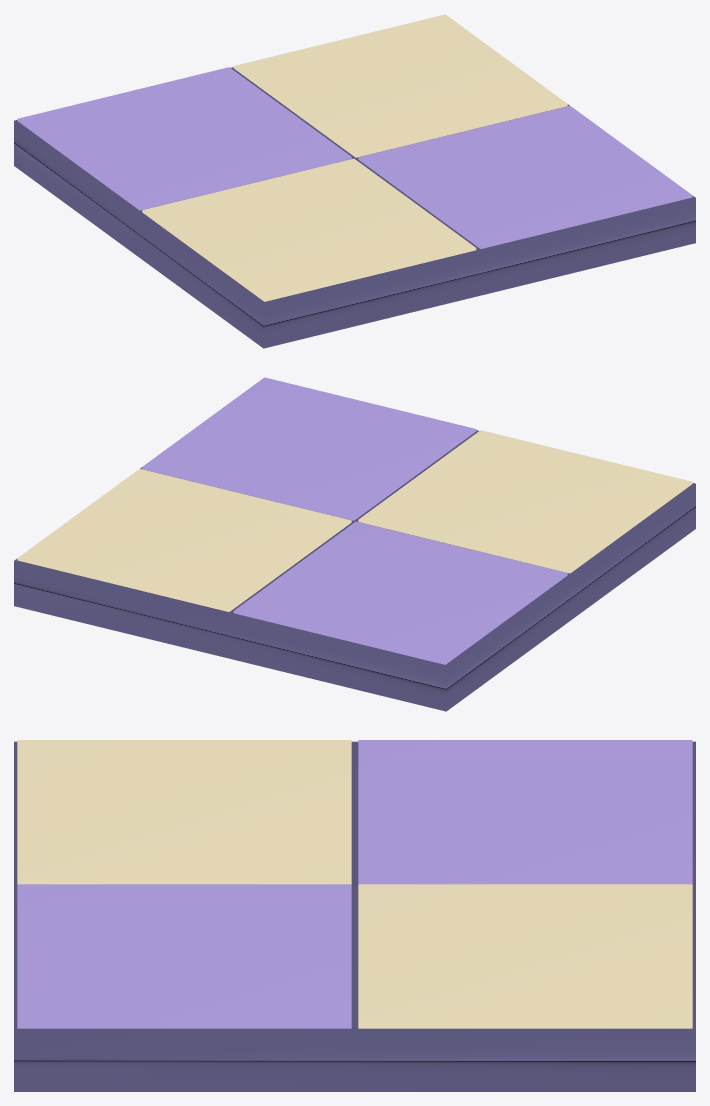
The model's file is floor_tile.glb.
The picture shows the model from 3 angles, top to bottom: view 1: azimuth 30°, elevation 25°; view 2: azimuth 150°, elevation 25°; view 3: azimuth 270°, elevation 25°; orthographic projection. The views are drawn at different scales.
Parts seen in each view (by area): view 1: Tile.001; view 2: Tile.001; view 3: Tile.001.
Part boxes in pixels (x1,y1,x2,y2): Tile.001: (14, 14, 695, 348); Tile.001: (14, 377, 695, 711); Tile.001: (14, 740, 695, 1091).
Bounding box in the file's own units: 1 × 0.105 × 1.
